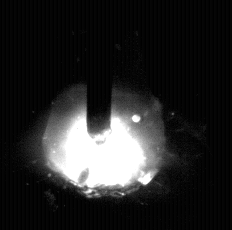arame: (88, 0, 112, 136)
poca: (41, 0, 166, 230)
